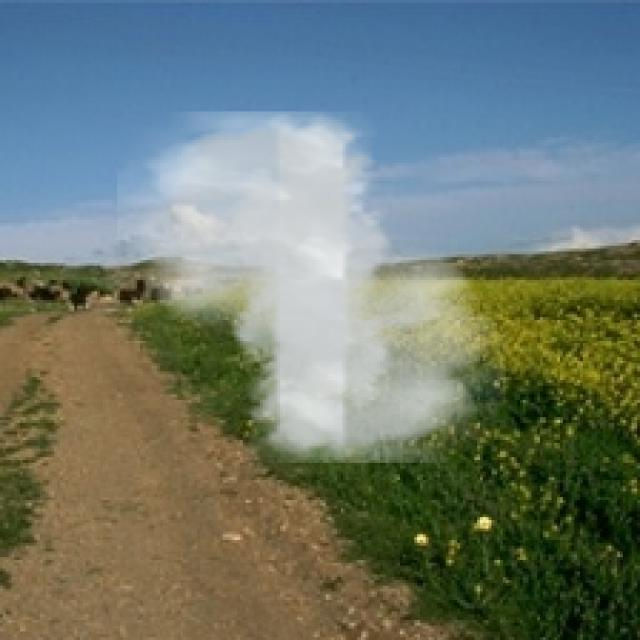smoke: (117, 111, 506, 463)
